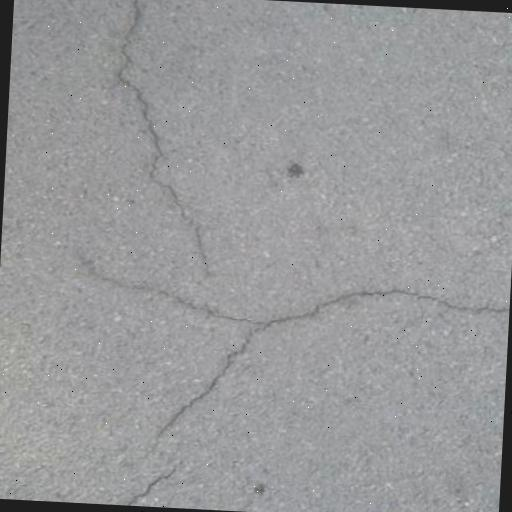spalling: (139, 275, 506, 437), (99, 0, 225, 279), (53, 240, 255, 330), (109, 452, 194, 505)
